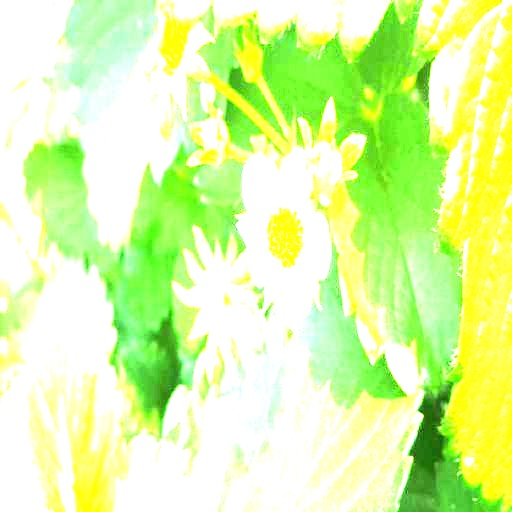Blossom Blight: (262, 194, 309, 274)
